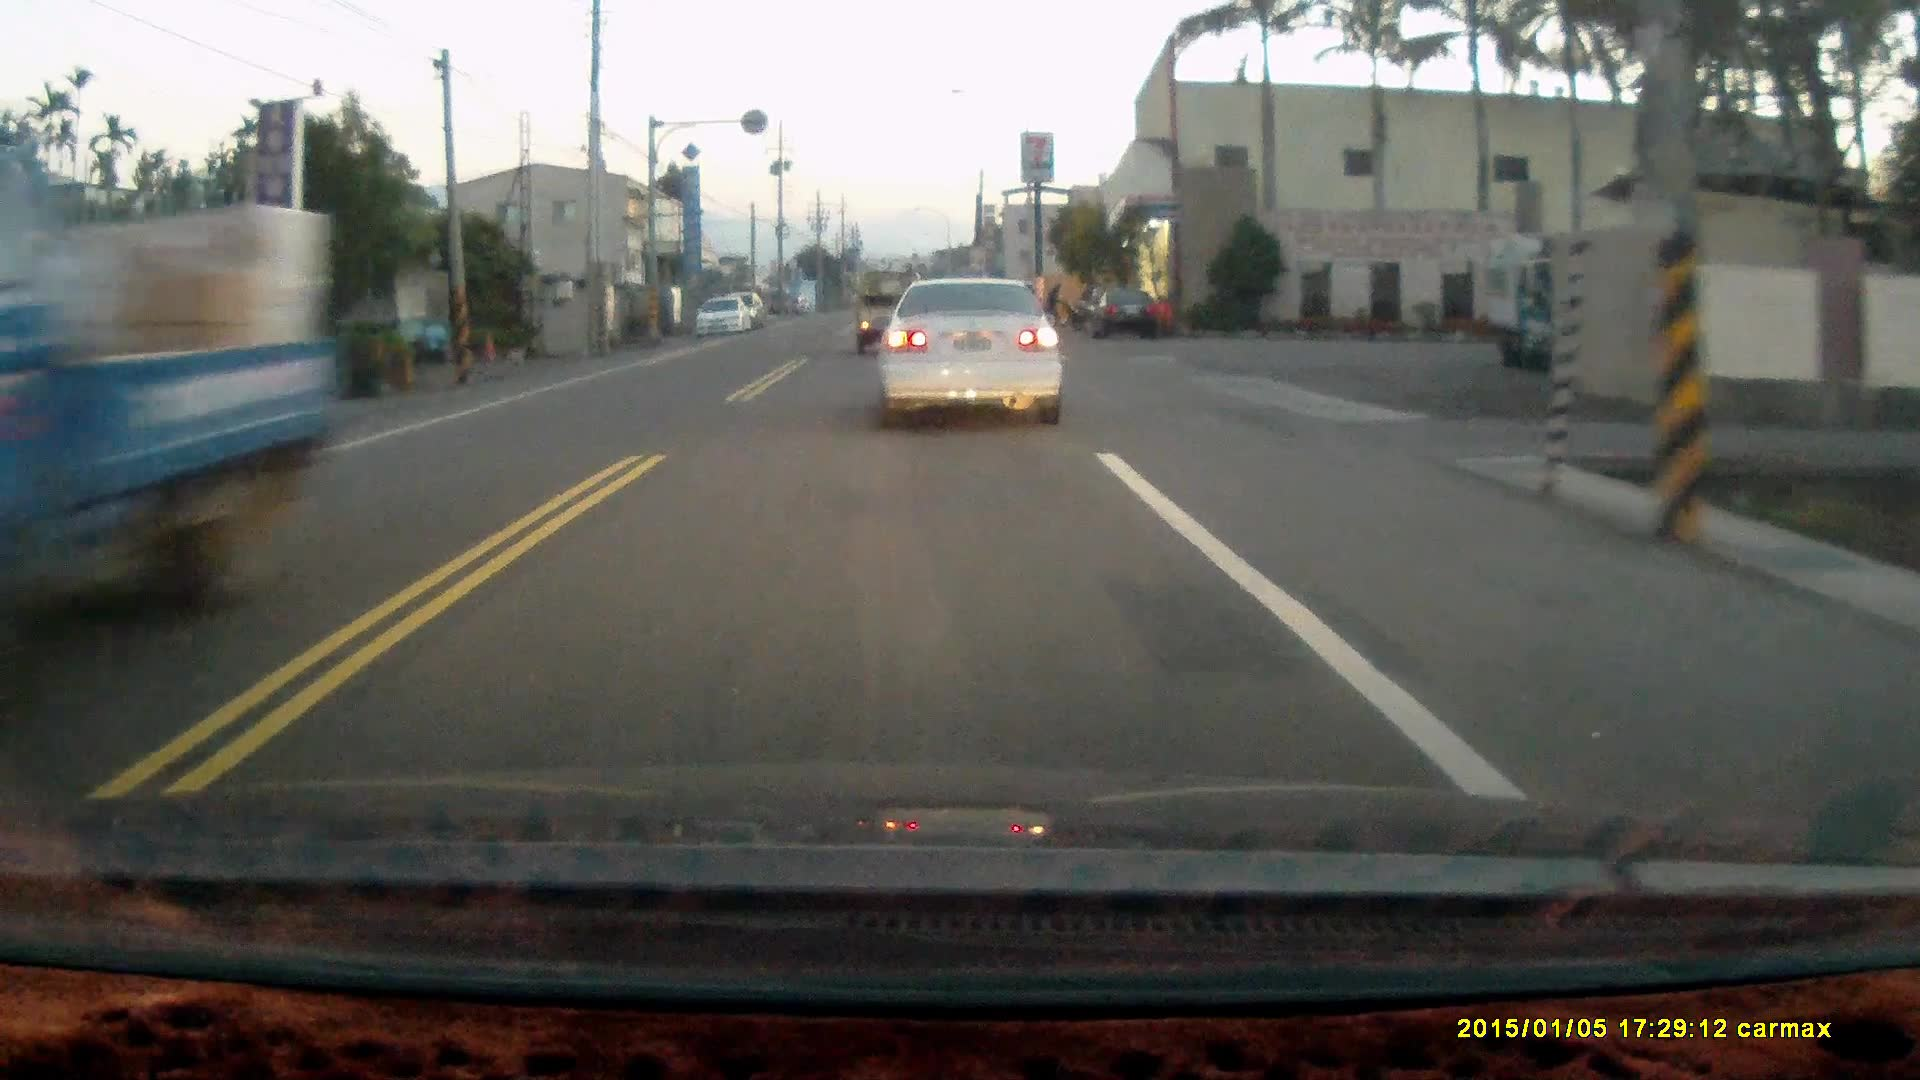rider: (1036, 278, 1081, 329)
vehicle: (1, 147, 350, 693), (885, 279, 1071, 434), (1475, 231, 1628, 377), (857, 274, 931, 363), (1086, 281, 1158, 339), (689, 288, 757, 341)
